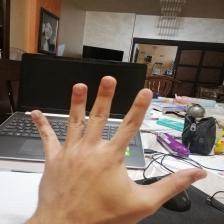five: (28, 74, 207, 218)
